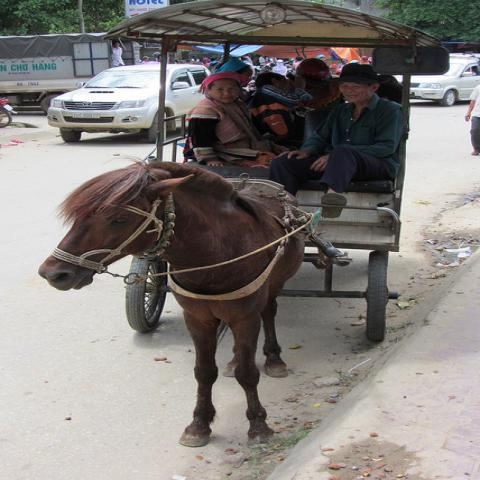car: (47, 63, 214, 143), (392, 52, 479, 106)
truck: (0, 32, 112, 113)
